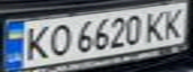0: (124, 11, 148, 46)
2: (109, 14, 130, 48)
6: (72, 17, 96, 54), (90, 15, 112, 52)
K: (18, 23, 54, 62), (157, 5, 190, 39), (142, 8, 169, 43)
O: (42, 21, 72, 57)
